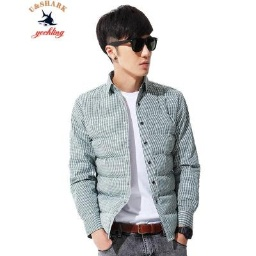face: (96, 4, 158, 79)
